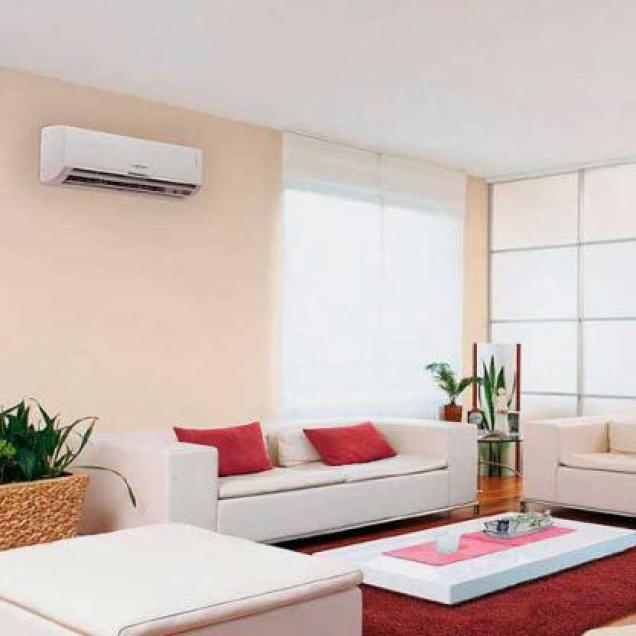AC: (37, 124, 204, 203)
